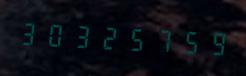five: (121, 19, 146, 57), (173, 22, 198, 59)
nine: (199, 24, 224, 61)
seven: (147, 21, 172, 58)
three: (17, 14, 42, 51), (69, 17, 94, 54)
two: (95, 18, 120, 55)
zero: (43, 15, 68, 53)
